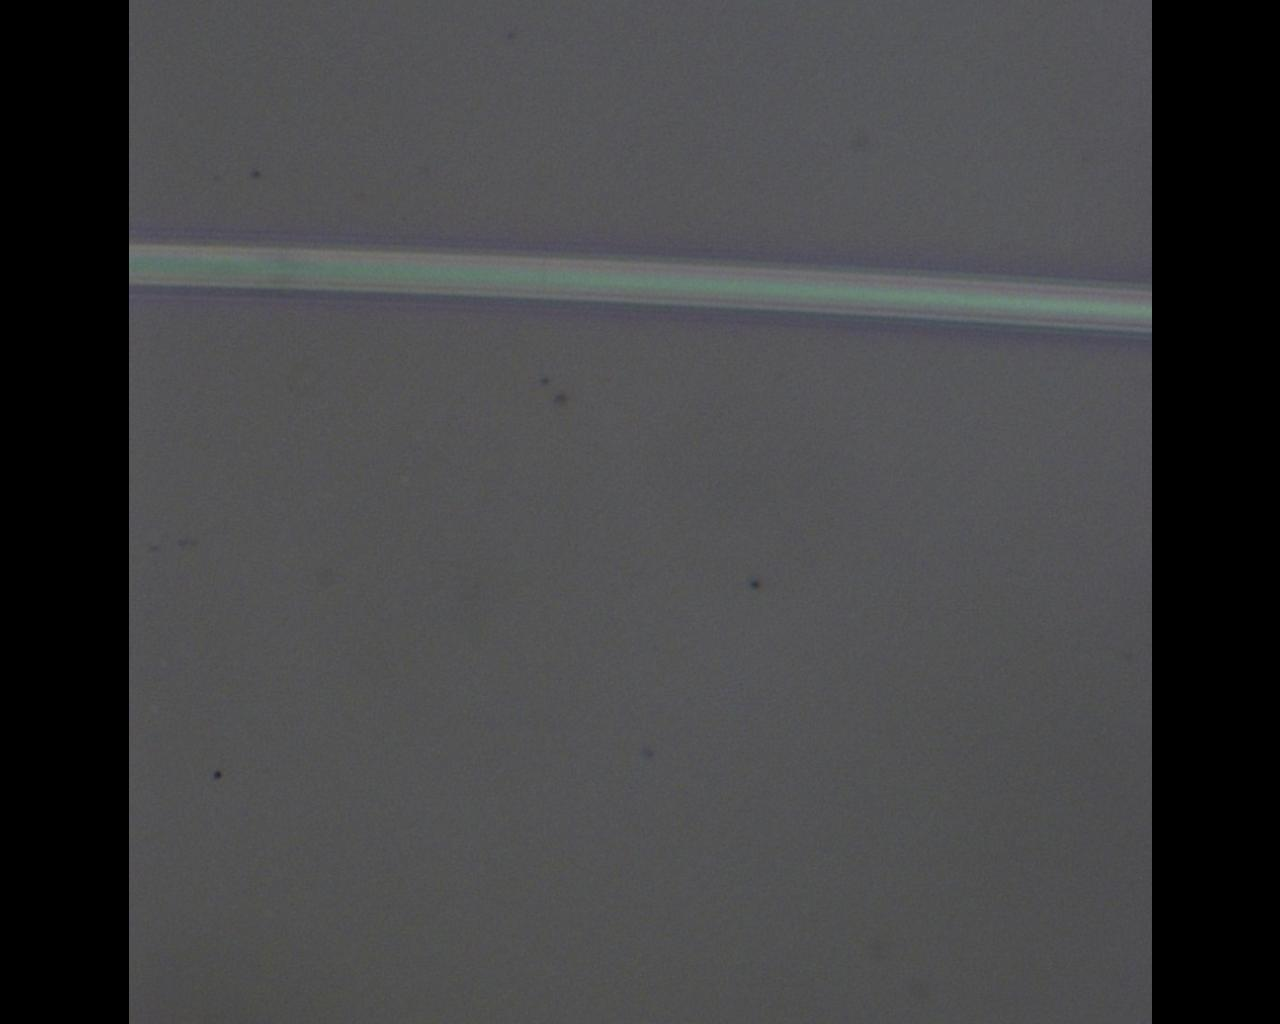fiber: (0, 192, 652, 524), (1083, 593, 1280, 1024), (1061, 0, 1179, 593)
